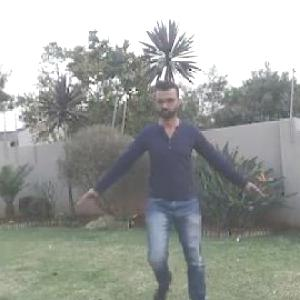land: (78, 73, 263, 299)
